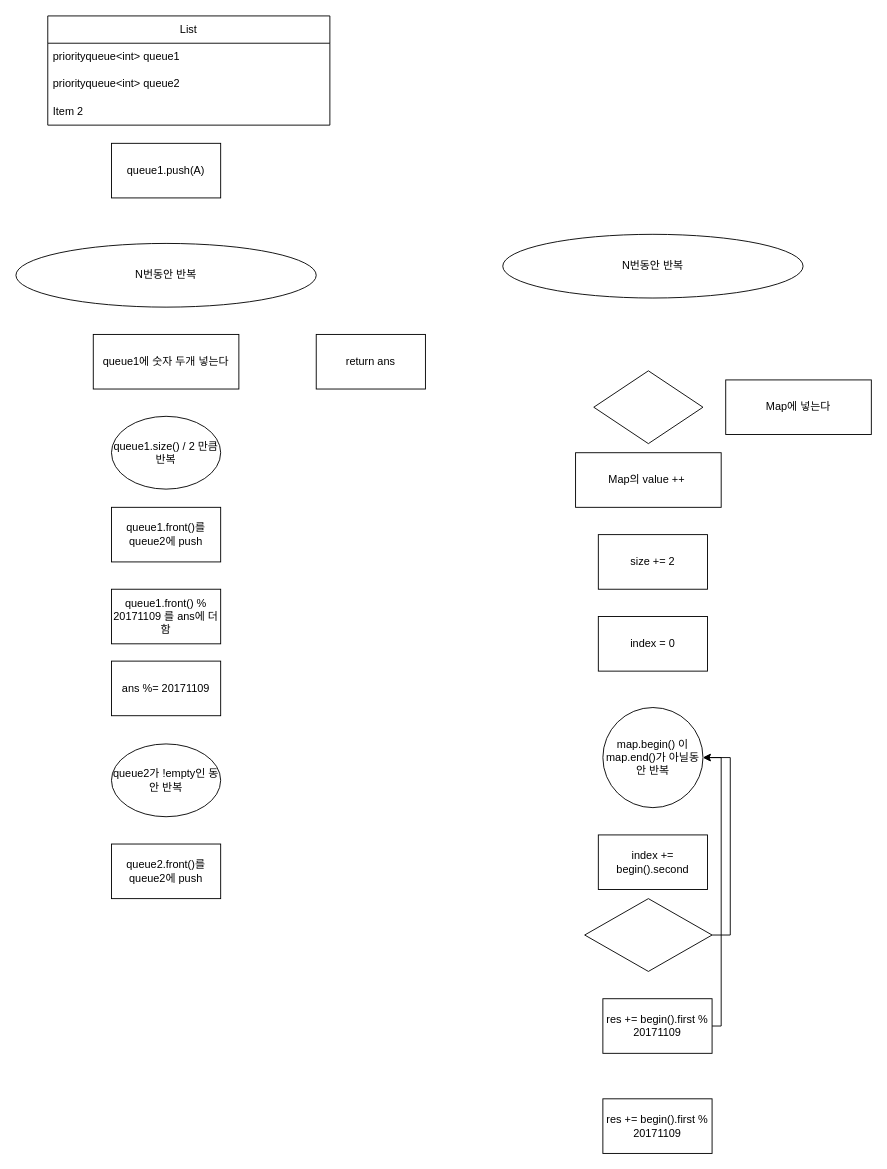
Some shapes in this 887 by 1169 pixel diagram are drawn without their labels. Each missing label, with the centre of its shape:
"index가 size /2 보다 큰가?" goes at (648,934).
"map에 숫자가 이미 있는가?" goes at (648,407).
